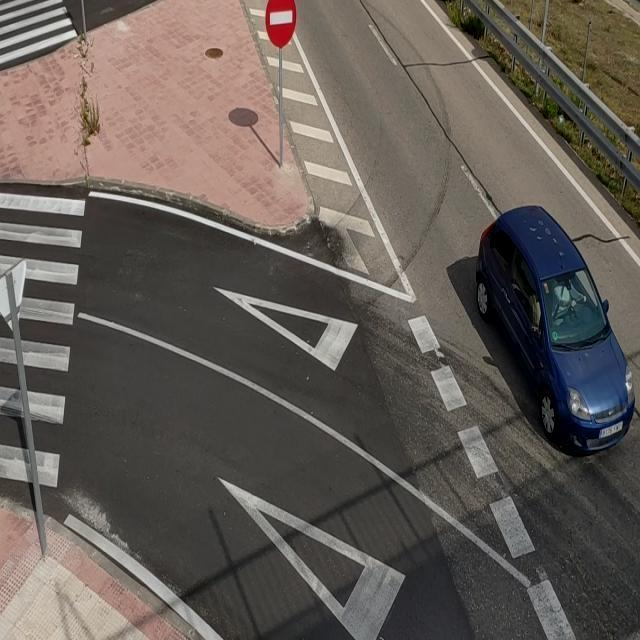Car: (472, 198, 638, 460)
